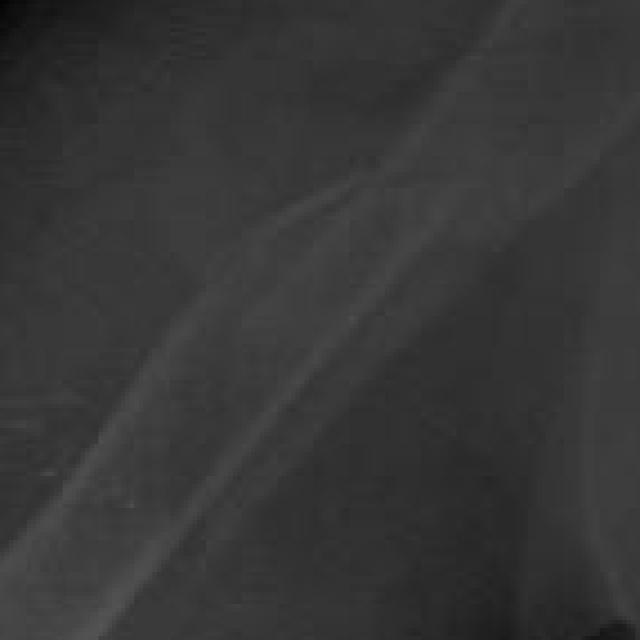fracture: (0, 3, 640, 639)
